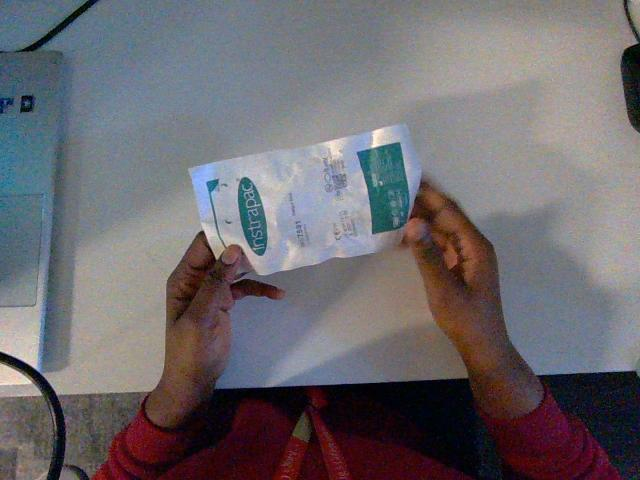gallipot: (190, 125, 420, 274)
